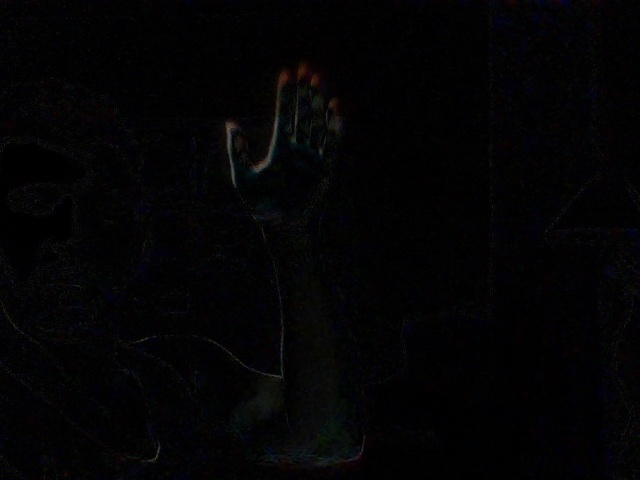arm_fo: (223, 58, 356, 472)
